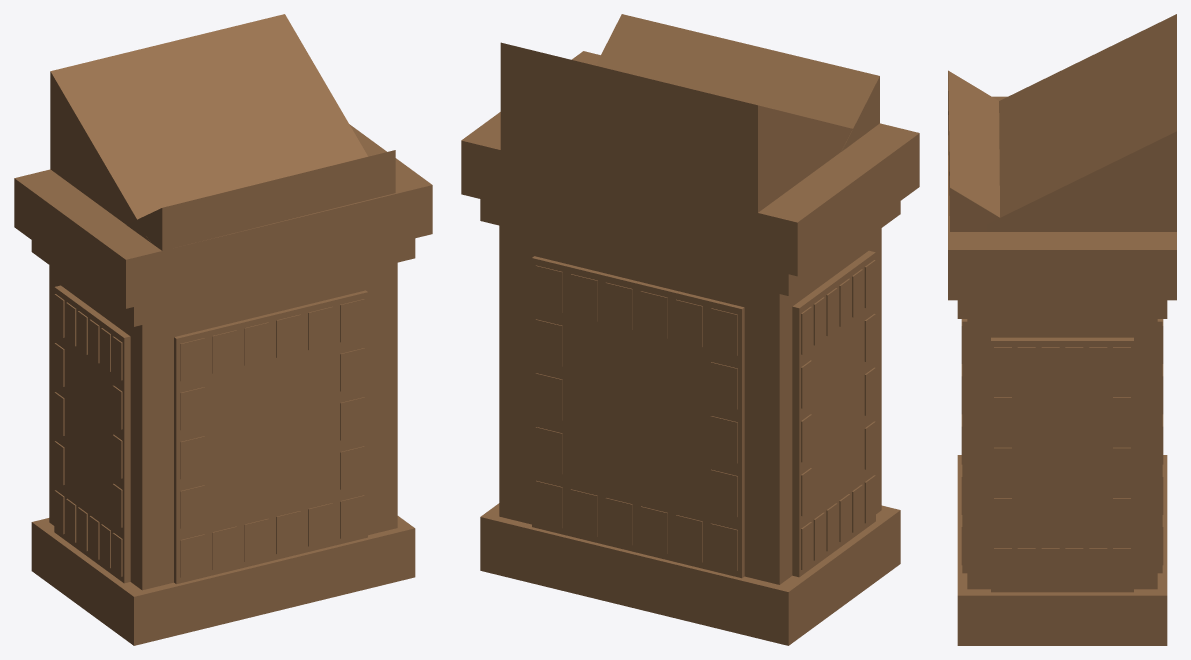
The picture shows the model from 3 angles, left to right: view 1: azimuth 30°, elevation 25°; view 2: azimuth 150°, elevation 25°; view 3: azimuth 270°, elevation 25°; orthographic projection. The views are drawn at different scales.
Parts seen in each view (by area): view 1: Cube, Cube.001, Cube.002; view 2: Cube, Cube.001, Cube.002; view 3: Cube, Cube.001, Cube.002.
Part boxes in pixels (x1,y1,x2,y2): Cube: [14, 124, 432, 645]; Cube.001: [50, 14, 367, 242]; Cube.002: [126, 150, 395, 250]; Cube: [461, 51, 919, 645]; Cube.001: [500, 42, 867, 212]; Cube.002: [595, 14, 879, 151]; Cube: [948, 96, 1176, 645]; Cube.001: [986, 14, 1176, 231]; Cube.002: [948, 70, 999, 231].
Bounding box in the file's own units: 3.27 × 5 × 2.06.
